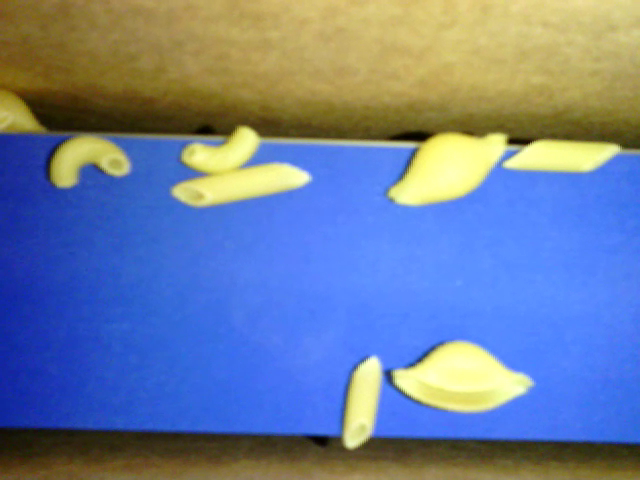elbow: (43, 127, 133, 196), (178, 121, 264, 174)
penne: (166, 159, 319, 208), (336, 352, 388, 451), (510, 135, 620, 174)
shell: (388, 340, 538, 416), (379, 125, 511, 208), (2, 86, 56, 139)
